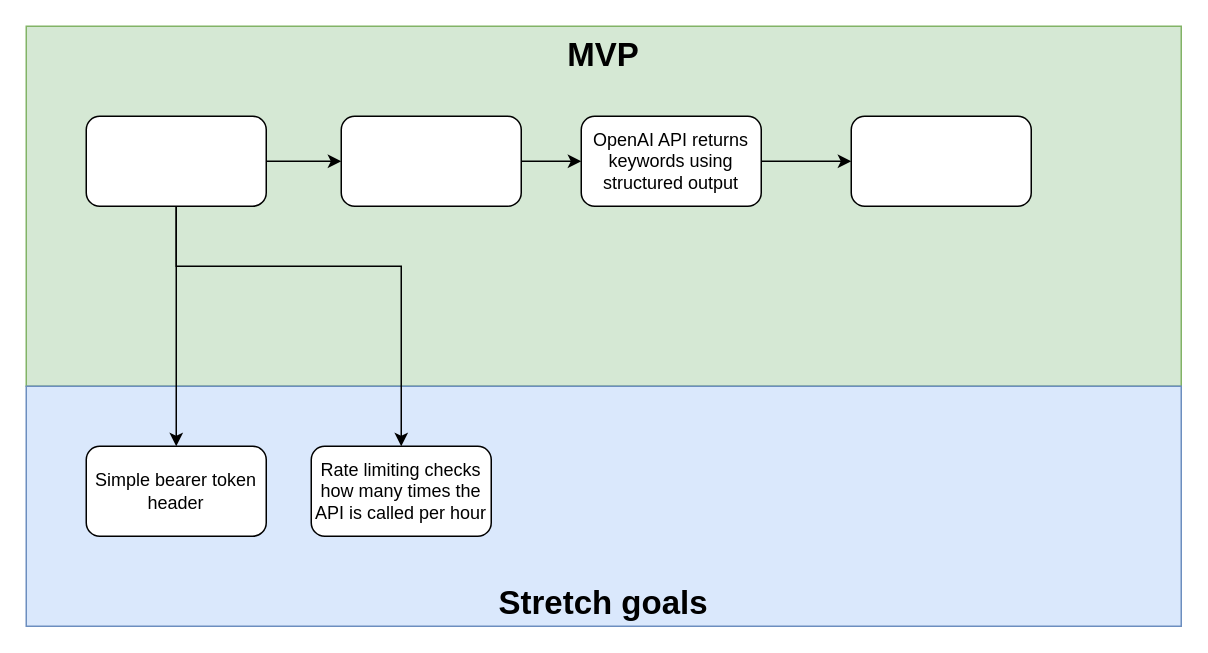
This 1208x653 diagram has some shape labels left out. Here are the shapes that lost their labels. From the top down, the centre of each, then its label:
At (x=175, y=160): "POST request to the '/keywords' API with large text string in the body".
At (x=430, y=160): "API receives text string, sends it to OpenAI API for analysis".
At (x=940, y=160): "Keywords are sent back as the result of the POST request".
